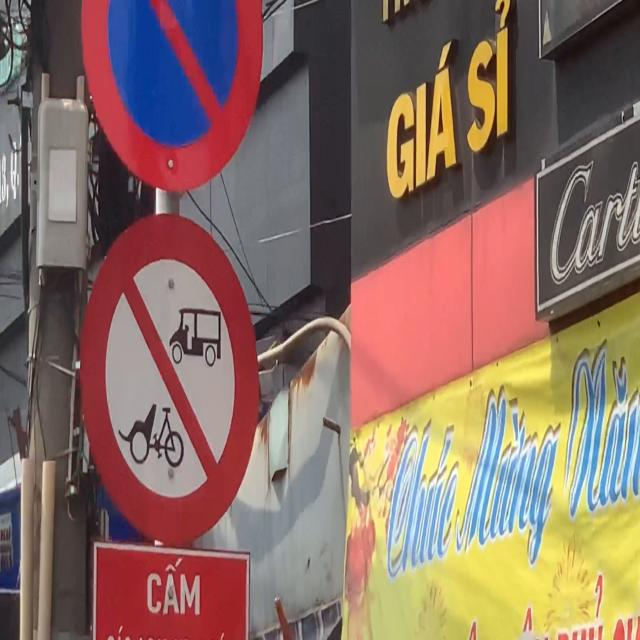Cam do: (79, 0, 263, 198)
